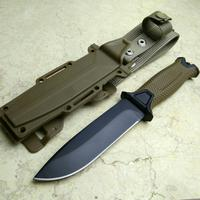knife: (31, 64, 200, 189)
